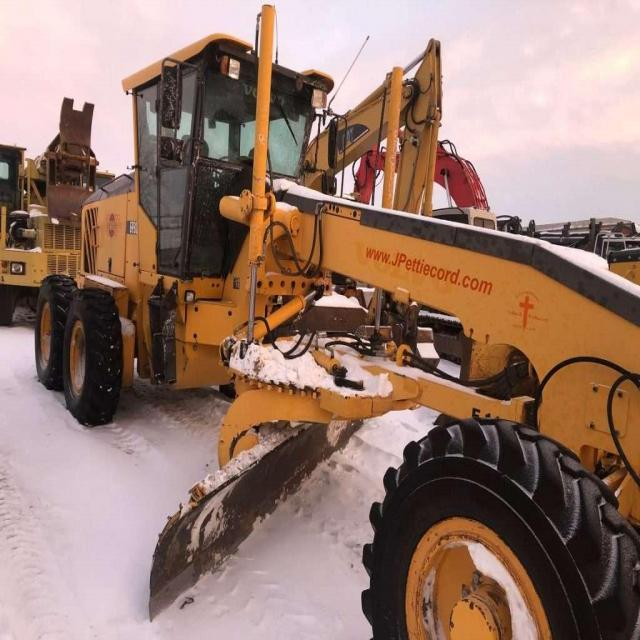Grader: (31, 17, 640, 639)
